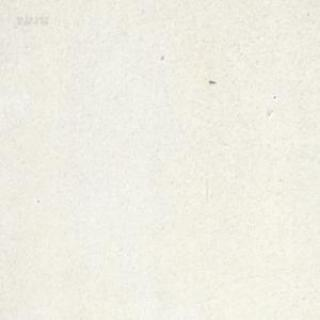Nailtrack_idkeyframe: (208, 79, 216, 83)
